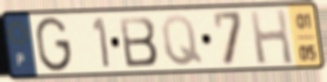1: (90, 15, 112, 70)
7: (212, 10, 247, 68)
B: (117, 14, 161, 69)
G: (34, 15, 74, 75)
H: (247, 7, 296, 67)
Q: (159, 13, 205, 69)
